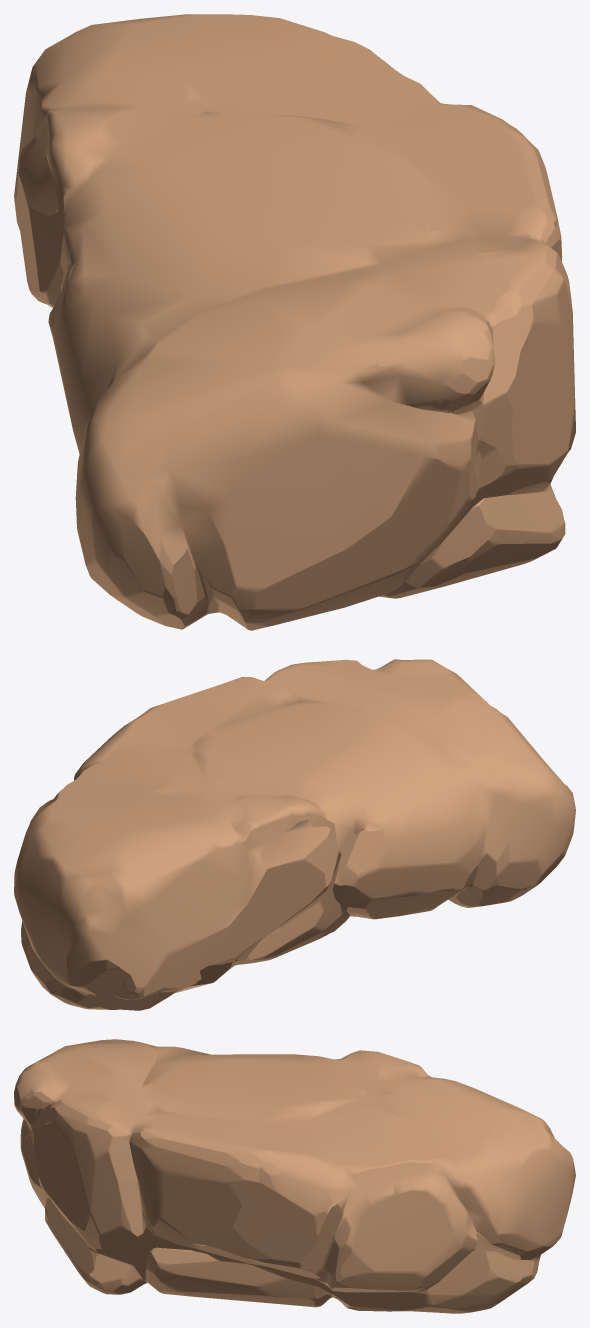
The picture shows the model from 3 angles, top to bottom: view 1: azimuth 30°, elevation 25°; view 2: azimuth 150°, elevation 25°; view 3: azimuth 270°, elevation 25°; orthographic projection. The views are drawn at different scales.
Parts seen in each view (by area): view 1: Mesh_45_LOD0; view 2: Mesh_45_LOD0; view 3: Mesh_45_LOD0.
Boxes of the visible parts, box(x1,y1,x2,y2) form: Mesh_45_LOD0: box(14, 14, 575, 630); Mesh_45_LOD0: box(14, 659, 575, 1010); Mesh_45_LOD0: box(14, 1039, 575, 1313).
Size of what is drawn, in the model's own units: 2221 by 1088 by 3043.
